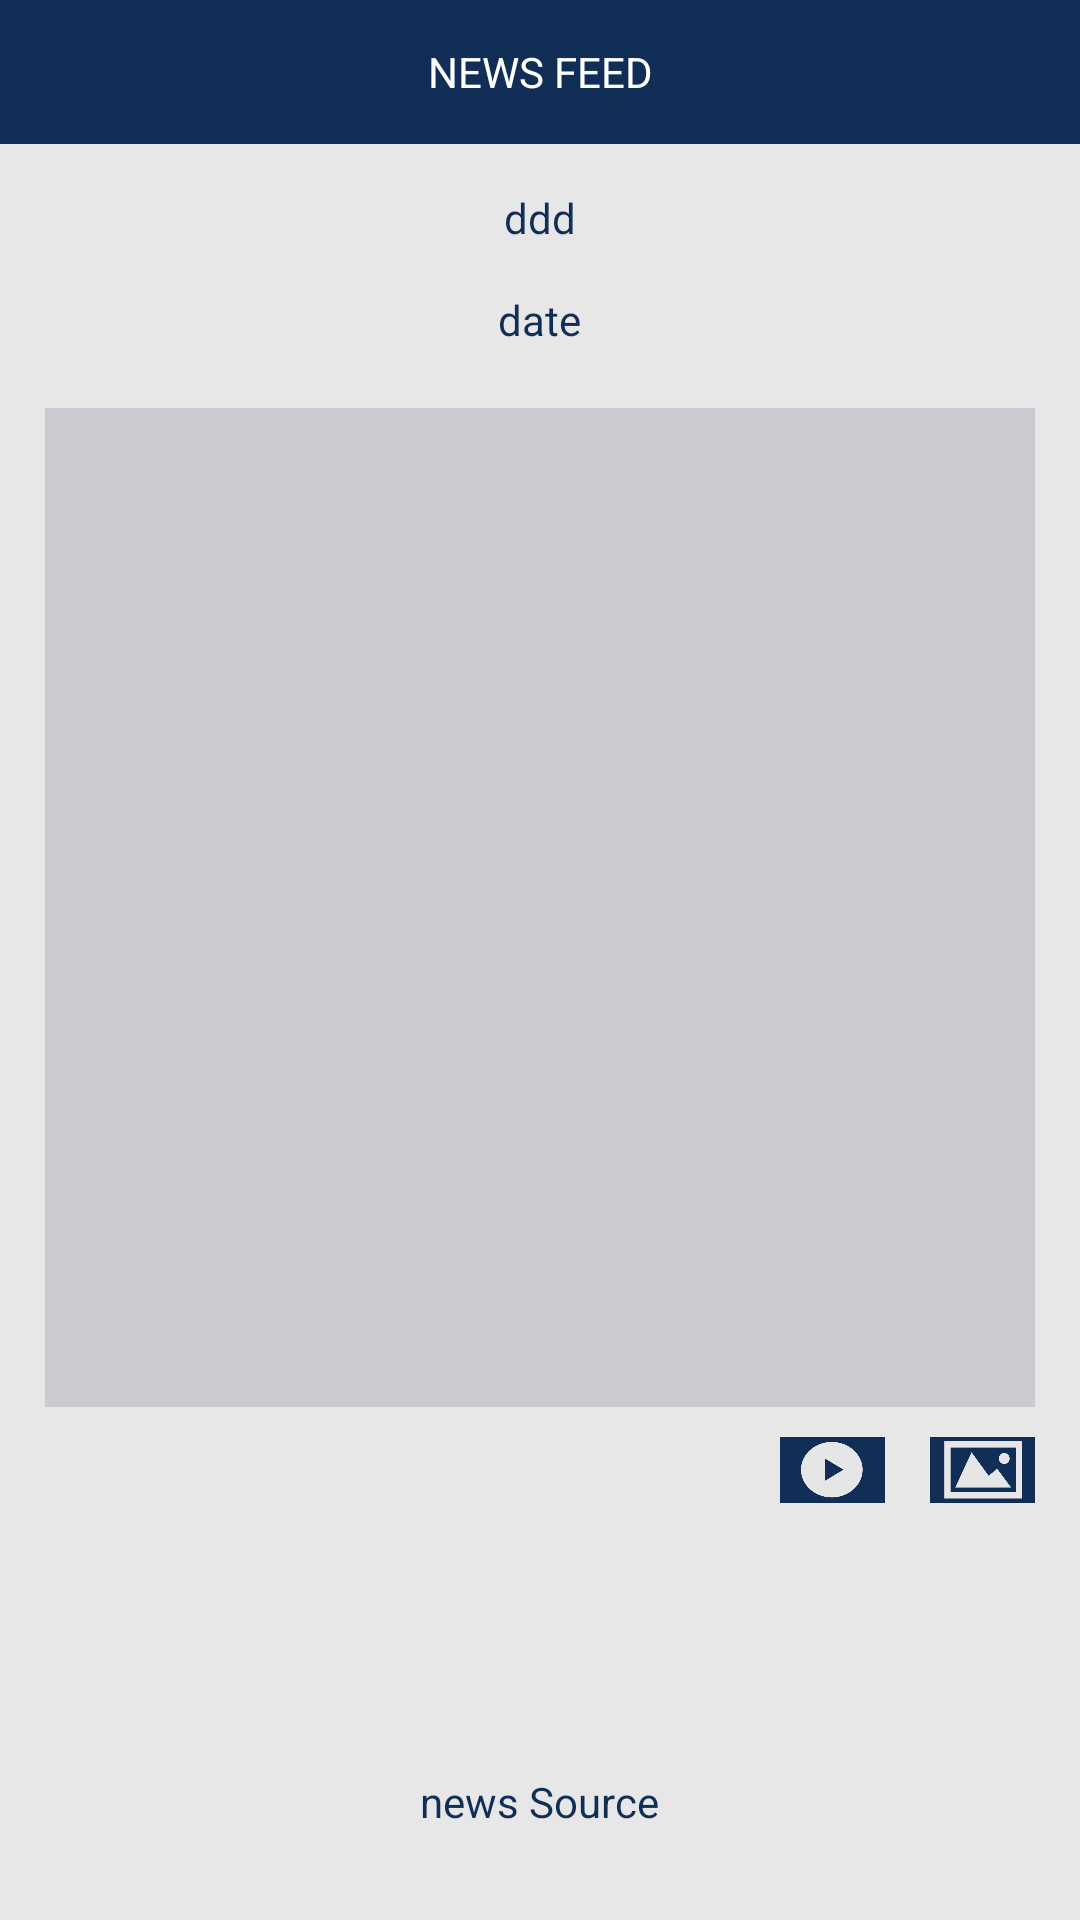

Icons on this 1080w x 1920h Android screen, each with the point to tap as point (x, y):
photo: point (982, 1470)
video: point (832, 1470)
